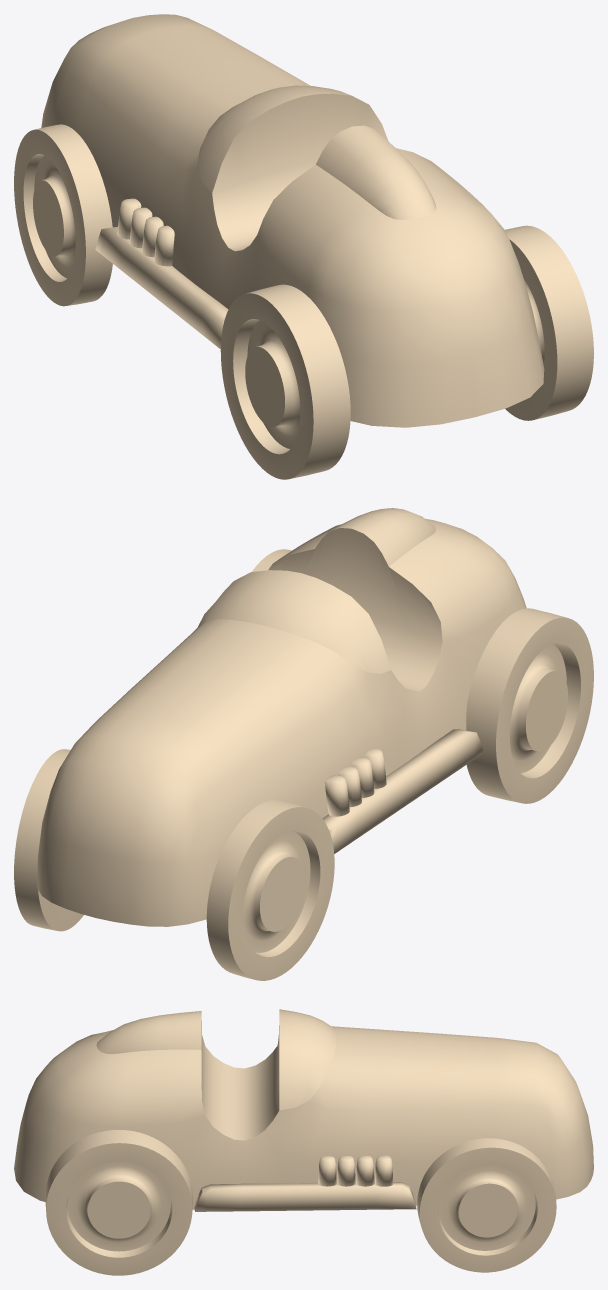
File: Carro.glb
3 renders of one model, top to bottom at view 1: azimuth 30°, elevation 25°; view 2: azimuth 150°, elevation 25°; view 3: azimuth 270°, elevation 25°, orthographic. The views are drawn at different scales.
Parts seen in each view (by area): view 1: Monopoly Car; view 2: Monopoly Car; view 3: Monopoly Car.
Boxes of the visible parts, box(x1,y1,x2,y2) form: Monopoly Car: box(14, 14, 593, 479); Monopoly Car: box(14, 508, 593, 980); Monopoly Car: box(14, 1009, 593, 1275).
Size of the model in its own units: 1.45 by 1.37 by 3.34.
